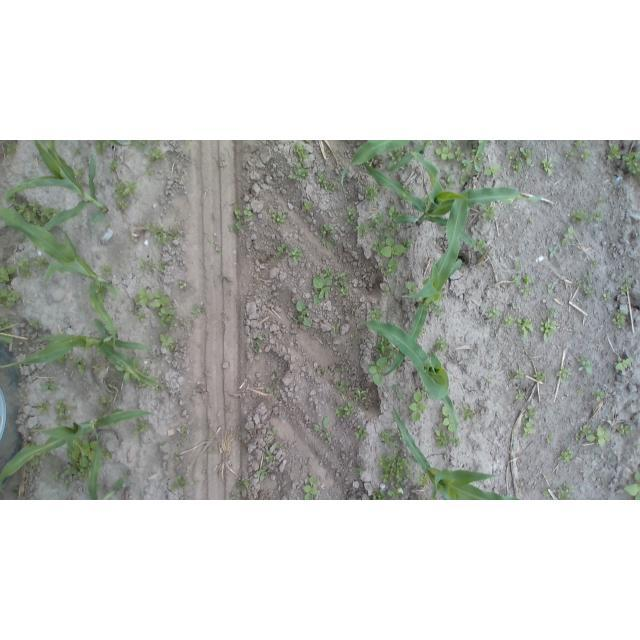Maize: (363, 152, 549, 249), (0, 204, 116, 346), (382, 189, 467, 377), (391, 405, 519, 500), (1, 410, 156, 487), (355, 321, 458, 435), (1, 320, 159, 387), (3, 140, 110, 230), (341, 141, 412, 204), (90, 429, 125, 500), (388, 141, 433, 174), (102, 477, 124, 500), (476, 140, 486, 158)
Weeds: (379, 448, 416, 499), (372, 236, 411, 275), (256, 428, 282, 484), (11, 198, 51, 222), (147, 221, 180, 245), (115, 179, 138, 213), (133, 286, 170, 306), (71, 437, 93, 469), (512, 260, 532, 295), (56, 465, 85, 488), (311, 276, 333, 305), (18, 256, 48, 277), (232, 204, 253, 233), (409, 389, 427, 422), (369, 357, 388, 388), (313, 416, 332, 443), (319, 222, 337, 250), (586, 426, 611, 446), (371, 213, 389, 240), (624, 470, 640, 500), (524, 405, 537, 441), (462, 149, 483, 171), (623, 151, 640, 177), (0, 289, 20, 310), (316, 171, 337, 191), (571, 281, 593, 300), (149, 140, 168, 162), (159, 307, 178, 329), (303, 474, 319, 500), (435, 431, 459, 448), (539, 319, 557, 341), (297, 301, 312, 327), (55, 401, 72, 423), (518, 316, 534, 339), (441, 406, 455, 432), (160, 333, 178, 352), (379, 429, 397, 447), (338, 271, 350, 298), (557, 483, 576, 499), (579, 355, 595, 374), (375, 336, 393, 352), (616, 357, 635, 372), (335, 403, 355, 417), (0, 266, 16, 283), (172, 476, 188, 493), (402, 280, 420, 295), (521, 147, 535, 166), (433, 148, 455, 160), (73, 358, 88, 375), (613, 311, 627, 329), (254, 334, 267, 353), (272, 211, 288, 226), (541, 156, 553, 176), (484, 163, 502, 176), (562, 226, 574, 245), (135, 421, 150, 436), (4, 140, 18, 156), (287, 248, 304, 261), (571, 210, 589, 222), (345, 208, 357, 226), (293, 144, 307, 159), (176, 427, 187, 446), (484, 206, 497, 222), (462, 404, 475, 420), (607, 144, 620, 160), (577, 425, 590, 441), (355, 427, 369, 441), (558, 366, 572, 380), (510, 369, 525, 382), (95, 140, 107, 156), (436, 336, 448, 352), (358, 222, 370, 238), (455, 145, 466, 162), (42, 381, 59, 392), (417, 472, 430, 486), (472, 240, 486, 253), (561, 446, 573, 461), (536, 369, 548, 384), (296, 163, 309, 176), (392, 385, 404, 399), (351, 389, 366, 400), (287, 172, 305, 181), (365, 186, 378, 198), (237, 476, 250, 488), (371, 308, 384, 320), (487, 310, 502, 320), (191, 304, 202, 317), (323, 268, 336, 279), (303, 200, 314, 213), (504, 314, 515, 326), (356, 463, 368, 474), (436, 306, 447, 318), (549, 246, 559, 259), (38, 403, 51, 413), (618, 423, 631, 433), (622, 277, 631, 291), (158, 259, 167, 273), (591, 391, 605, 400), (101, 397, 112, 408), (592, 211, 604, 221), (102, 265, 114, 275), (1, 336, 16, 344), (387, 207, 399, 217), (438, 141, 455, 148), (505, 151, 518, 160), (276, 244, 285, 257), (370, 492, 384, 500), (595, 198, 605, 209), (389, 223, 399, 234), (76, 167, 85, 179), (0, 319, 10, 329), (102, 448, 112, 458), (511, 161, 522, 170), (110, 161, 119, 172), (140, 260, 151, 269), (145, 167, 153, 179), (546, 281, 553, 294), (602, 291, 611, 301), (138, 311, 147, 321), (332, 323, 341, 333), (566, 149, 577, 157), (74, 145, 82, 156), (461, 175, 470, 184), (516, 394, 525, 403), (549, 308, 557, 318), (581, 149, 589, 159), (179, 281, 187, 291), (173, 454, 183, 462), (132, 141, 147, 146), (214, 244, 222, 253), (93, 365, 102, 372), (573, 140, 583, 146), (576, 385, 584, 392), (337, 383, 345, 390), (351, 307, 357, 316), (546, 435, 552, 444), (487, 375, 494, 382), (208, 238, 216, 244), (385, 286, 391, 294), (447, 179, 454, 185), (423, 195, 430, 201), (542, 491, 548, 498), (634, 441, 640, 447), (591, 261, 598, 266), (185, 140, 190, 145), (502, 140, 507, 142)
